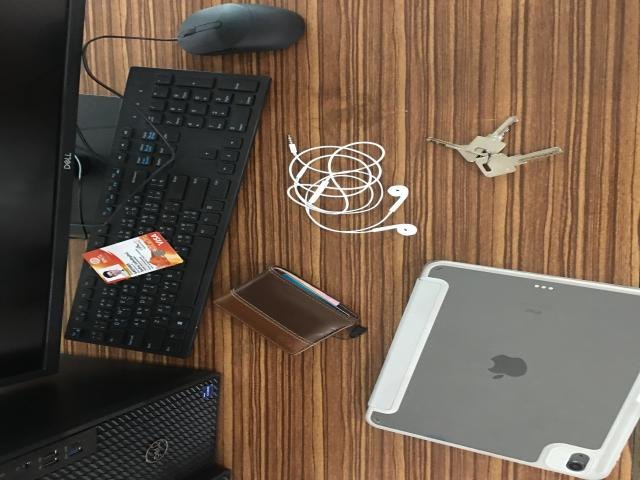Keys: (428, 117, 564, 179)
Mouse: (175, 4, 308, 56)
Wallet: (217, 267, 364, 355)
wire: (287, 142, 426, 238)
